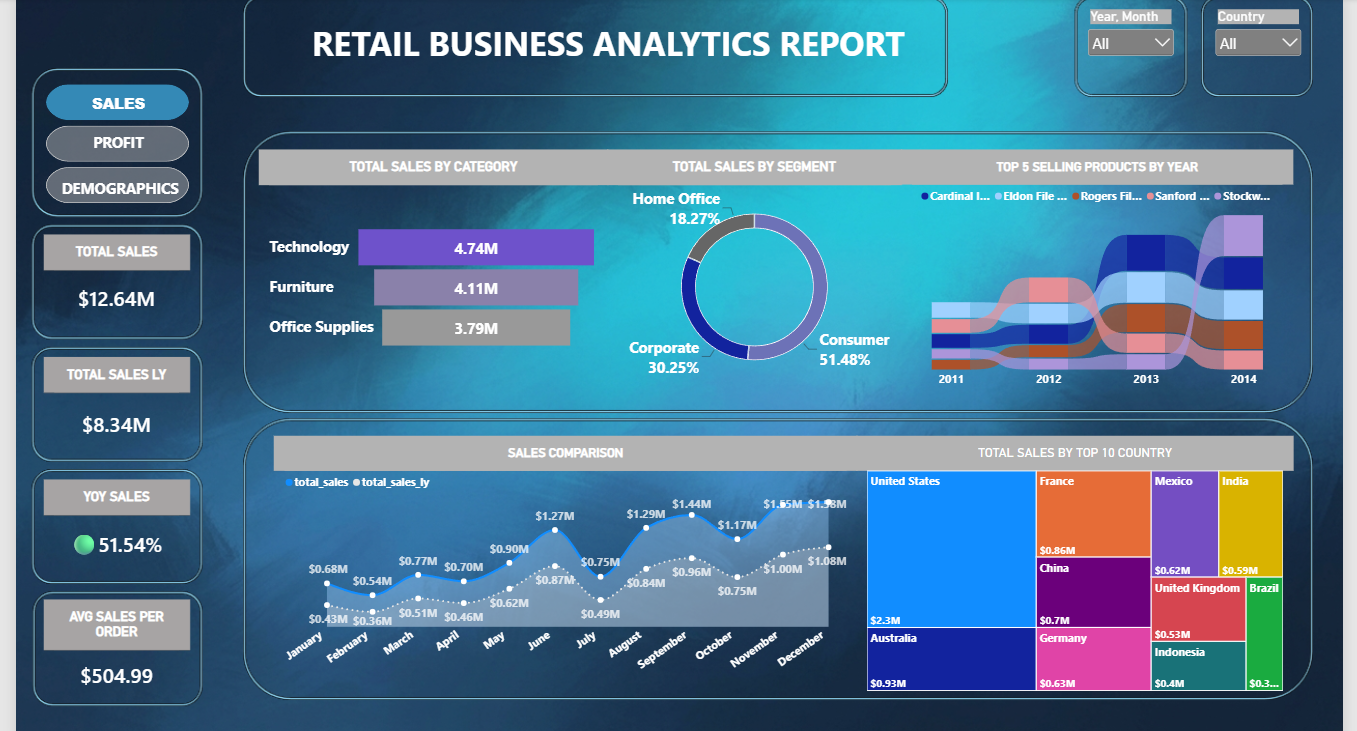

Layout of this report page (visuals, bound fields, positions):
{"tool":"powerbi","page":{"name":"SALES","canvas":[1920,1080],"ordinal":0},"visuals":[{"type":"group","id":"g1","title":"Group 1","box":[43.2,125.6,207.9,172.9],"z":0},{"type":"pageNavigator","box":[43.2,125.6,207.9,172.9],"z":0,"group":"g1"},{"type":"textbox","box":[102.9,138.5,90.5,36.8],"z":1000,"group":"g1"},{"type":"card","title":"TOTAL SALES","fields":{"Values":["calculate_table.total_sales"]},"box":[39.8,342,211.7,132.1],"z":1000},{"type":"textbox","box":[102.9,193.7,90.5,36.8],"z":2000,"group":"g1"},{"type":"card","title":"TOTAL SALES LY","fields":{"Values":["calculate_table.total_sales_ly"]},"box":[39.8,519.4,211.7,141.2],"z":2000},{"type":"textbox","box":[50.9,261.7,200.2,36.8],"z":3000,"group":"g1"},{"type":"card","title":"YOY SALES","fields":{"Values":["calculate_table.yoy_sales"]},"box":[39.8,696.7,211.7,135.7],"z":3000},{"type":"card","title":"AVG SALES PER ORDER","fields":{"Values":["calculate_table.aver_sales_per_order"]},"box":[39.8,870.4,211.7,146.6],"z":4000},{"type":"funnel","title":"TOTAL SALES BY CATEGORY","fields":{"Category":["product_table.Category"],"Y":["calculate_table.total_sales"]},"box":[351.1,219,506.7,361.9],"z":5000},{"type":"donutChart","title":"TOTAL SALES BY SEGMENT","fields":{"Category":["customer_table.Segment"],"Y":["calculate_table.total_sales"]},"box":[856.3,218.2,426.1,362.3],"z":6000},{"type":"ribbonChart","title":"TOP 5 SELLING PRODUCTS BY YEAR","fields":{"Category":["DATETABLE.Date.Variation.Date Hierarchy.Year"],"Series":["product_table.Product Name"],"Y":["calculate_table.TOTAL_QTY"]},"box":[1281.2,219,568.2,365.6],"z":7000},{"type":"treemap","title":"TOTAL SALES BY TOP 10 COUNTRY","fields":{"Group":["location_table.Country"],"Values":["calculate_table.total_sales"]},"box":[1216.5,634,634,384.9],"z":8000},{"type":"lineChart","title":"SALES COMPARISON","fields":{"Category":["DATETABLE.Date.Variation.Date Hierarchy.Month"],"Y":["calculate_table.total_sales","calculate_table.total_sales_ly"]},"box":[372.6,634,846,370.5],"z":9000},{"type":"slicer","fields":{"Values":["DATETABLE.Date.Variation.Date Hierarchy.Year","DATETABLE.Date.Variation.Date Hierarchy.Month"]},"box":[1547.9,16.5,133.8,100.9],"z":10000},{"type":"slicer","fields":{"Values":["location_table.Country"]},"box":[1731.1,16.5,133.8,100.9],"z":11000},{"type":"textbox","box":[395.2,32.9,926.2,67.9],"z":12000}]}

Visuals, with their boxes on the page's 1920x1080 design canvas (x1, y1, x2, y2). These are canvas units, not pixel positions in the 1357x731 screenshot, which may show the page scaled, cropped or inside an application window:
"Group 1" group: left=43, top=126, right=251, bottom=298
pageNavigator: left=43, top=126, right=251, bottom=298
textbox: left=103, top=138, right=193, bottom=175
"TOTAL SALES" card: left=40, top=342, right=252, bottom=474
textbox: left=103, top=194, right=193, bottom=230
"TOTAL SALES LY" card: left=40, top=519, right=252, bottom=661
textbox: left=51, top=262, right=251, bottom=298
"YOY SALES" card: left=40, top=697, right=252, bottom=832
"AVG SALES PER ORDER" card: left=40, top=870, right=252, bottom=1017
"TOTAL SALES BY CATEGORY" funnel: left=351, top=219, right=858, bottom=581
"TOTAL SALES BY SEGMENT" donutChart: left=856, top=218, right=1282, bottom=580
"TOP 5 SELLING PRODUCTS BY YEAR" ribbonChart: left=1281, top=219, right=1849, bottom=585
"TOTAL SALES BY TOP 10 COUNTRY" treemap: left=1216, top=634, right=1850, bottom=1019
"SALES COMPARISON" lineChart: left=373, top=634, right=1219, bottom=1004
slicer - DATETABLE.Date.Variation.Date Hierarchy.Year x DATETABLE.Date.Variation.Date Hierarchy.Month: left=1548, top=16, right=1682, bottom=117
slicer - location_table.Country: left=1731, top=16, right=1865, bottom=117
textbox: left=395, top=33, right=1321, bottom=101
